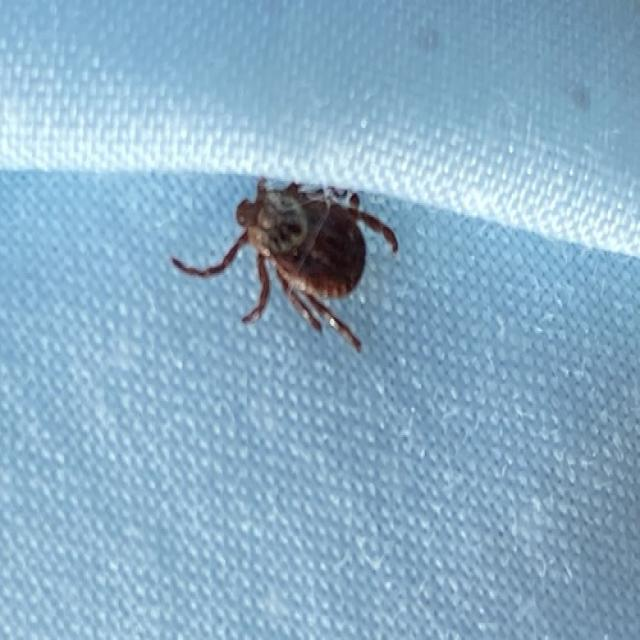Dermacentor Reticulatus-F: (170, 177, 398, 353)
